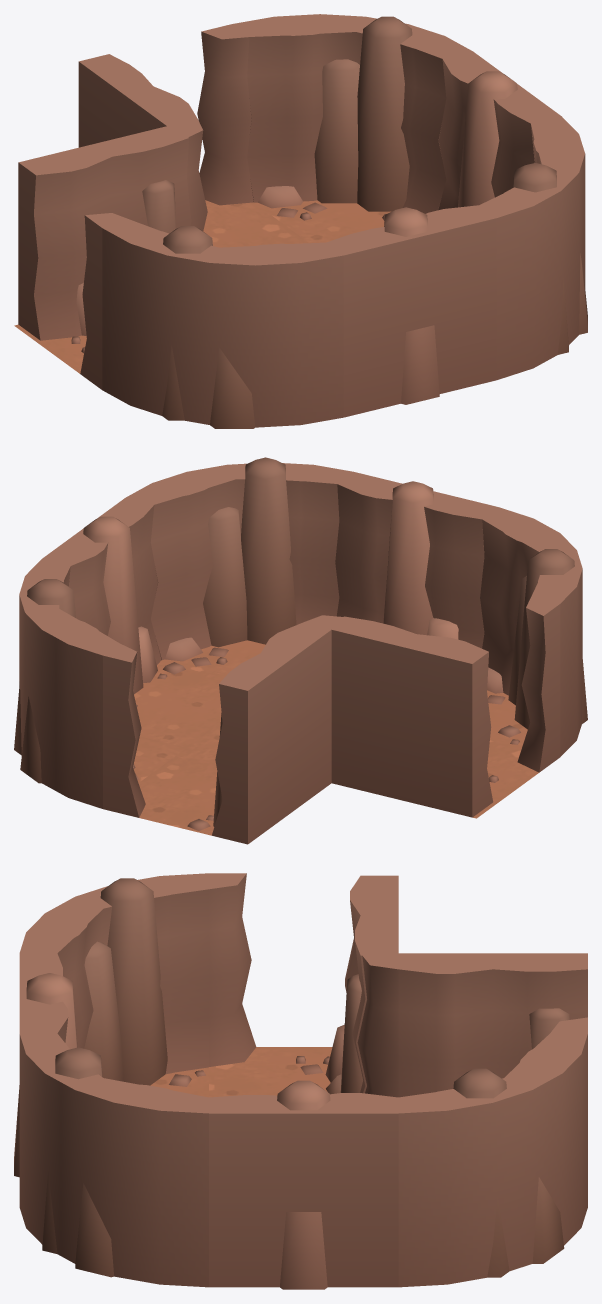
The model's file is room-corner.glb.
3 renders of one model, top to bottom at view 1: azimuth 30°, elevation 25°; view 2: azimuth 150°, elevation 25°; view 3: azimuth 270°, elevation 25°, orthographic. The views are drawn at different scales.
Parts seen in each view (by area): view 1: room-corner; view 2: room-corner; view 3: room-corner.
Boxes of the visible parts, left/top/right/bottom form: room-corner: left=14, top=14, right=587, bottom=428; room-corner: left=14, top=457, right=587, bottom=844; room-corner: left=14, top=873, right=587, bottom=1289.
Bounding box in the file's own units: 12.12 × 4.4 × 12.12.
Materials: 1 (1 with a texture image).
